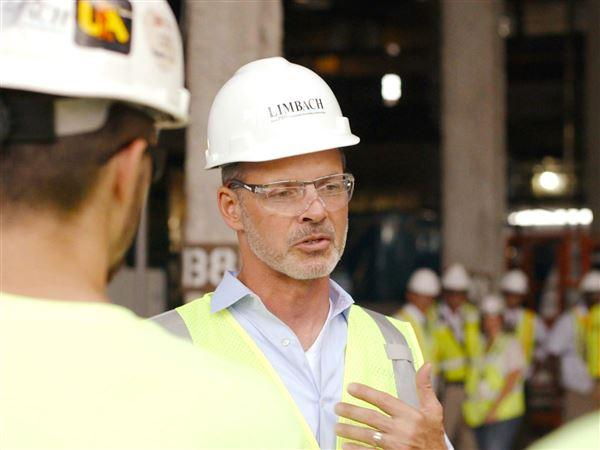helmet: (1, 1, 191, 130), (207, 57, 362, 169), (411, 269, 447, 299), (500, 266, 536, 296), (473, 297, 519, 320), (443, 263, 472, 295), (575, 266, 600, 299)
